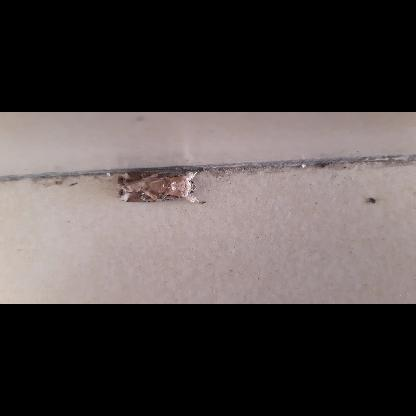Fall Armyworm Moth: (116, 167, 208, 205)
